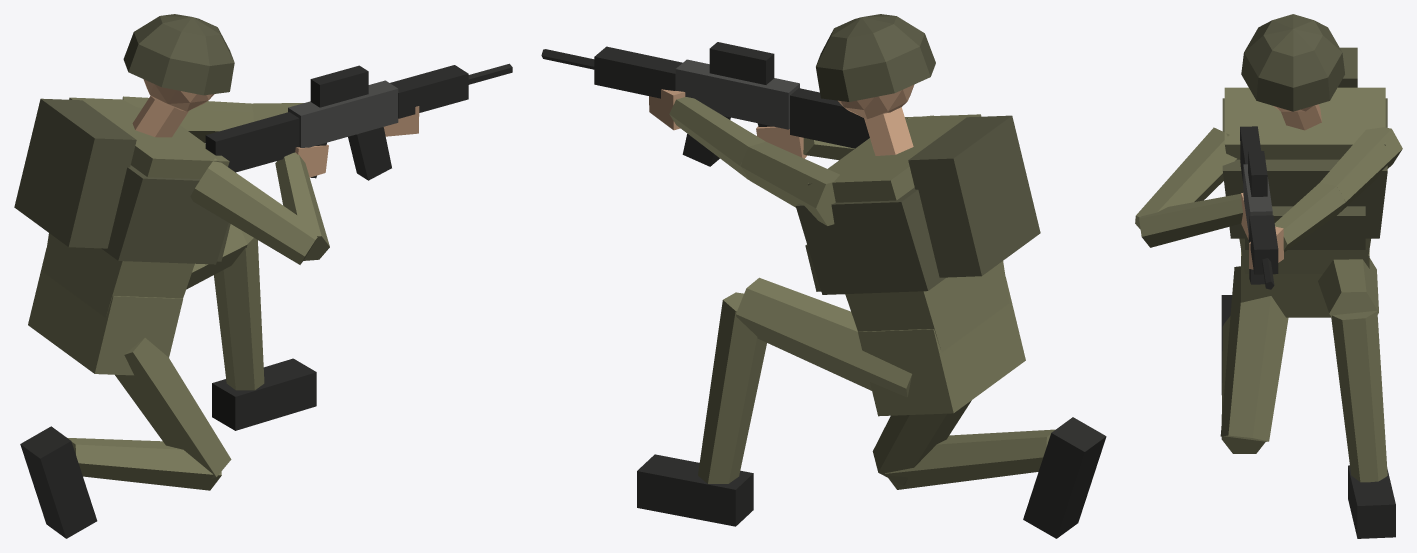
The model's file is soldier_kneel.glb.
The picture shows the model from 3 angles, left to right: view 1: azimuth 30°, elevation 25°; view 2: azimuth 150°, elevation 25°; view 3: azimuth 270°, elevation 25°; orthographic projection. The views are drawn at different scales.
Visible parts, largest first — view 1: soldier; view 2: soldier; view 3: soldier.
Part boxes in pixels (box(x1,y1,x2,y2)): soldier: box(14, 14, 512, 538); soldier: box(541, 14, 1106, 538); soldier: box(1135, 14, 1402, 538).
Size of the model in its own units: 1.37 by 1.2 by 0.6653.
